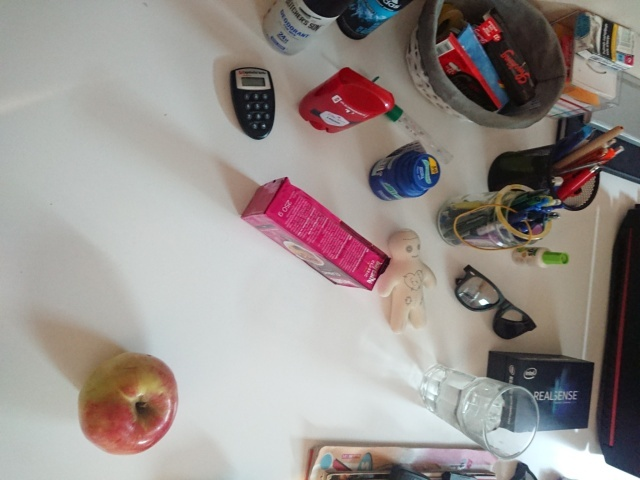Barcaffe Classic Original 225g: (239, 174, 392, 293)
